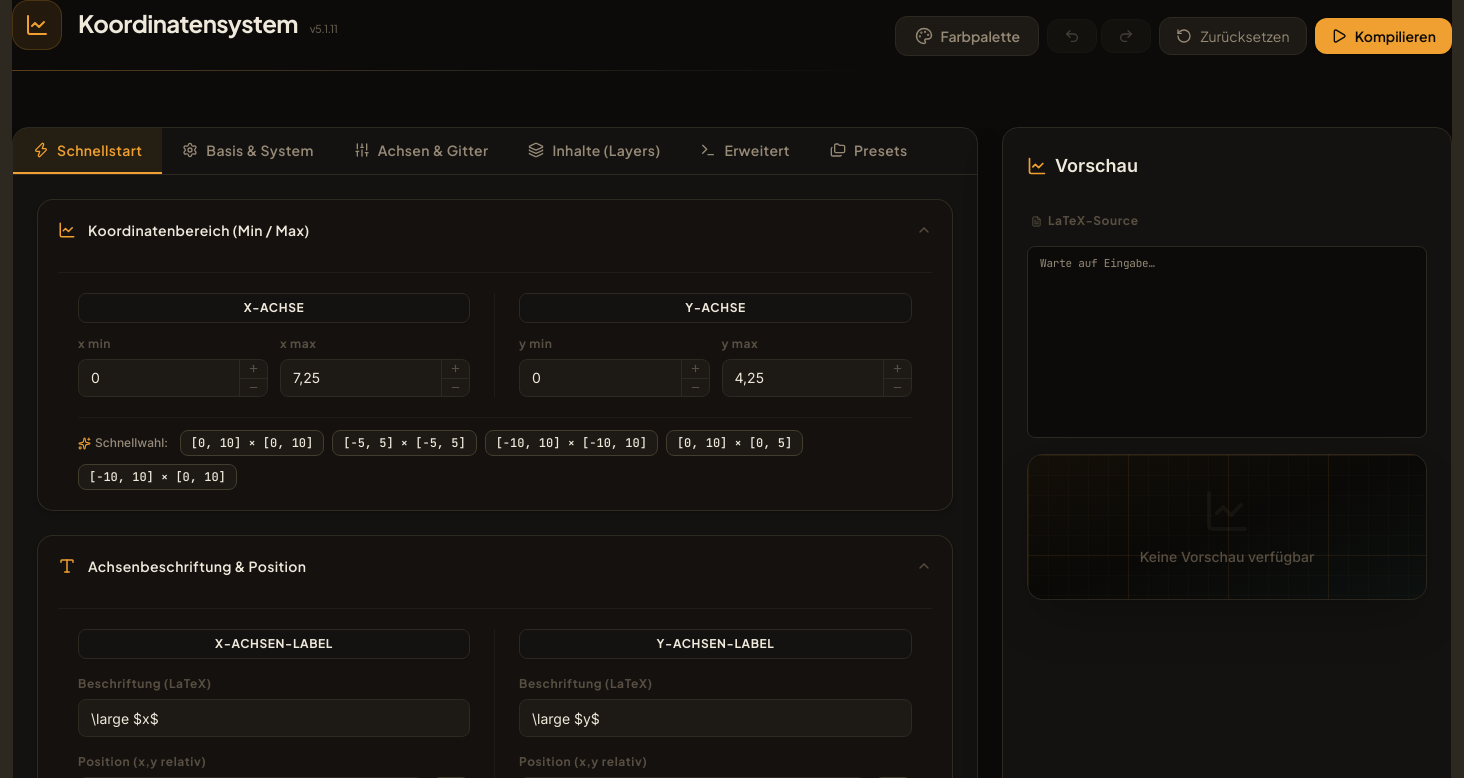
Test: KoordPage Integration Flow (Archetyp Generator-Page) › fängt API-Generierungsfehler (HTTP 422 / 500) sicher ab, setzt den Ladezustand zurück und zeigt die Fehlermeldung
Click the button "Kompilieren" at (1383, 36), box top-left (1314, 18), bottom-right (1452, 54)
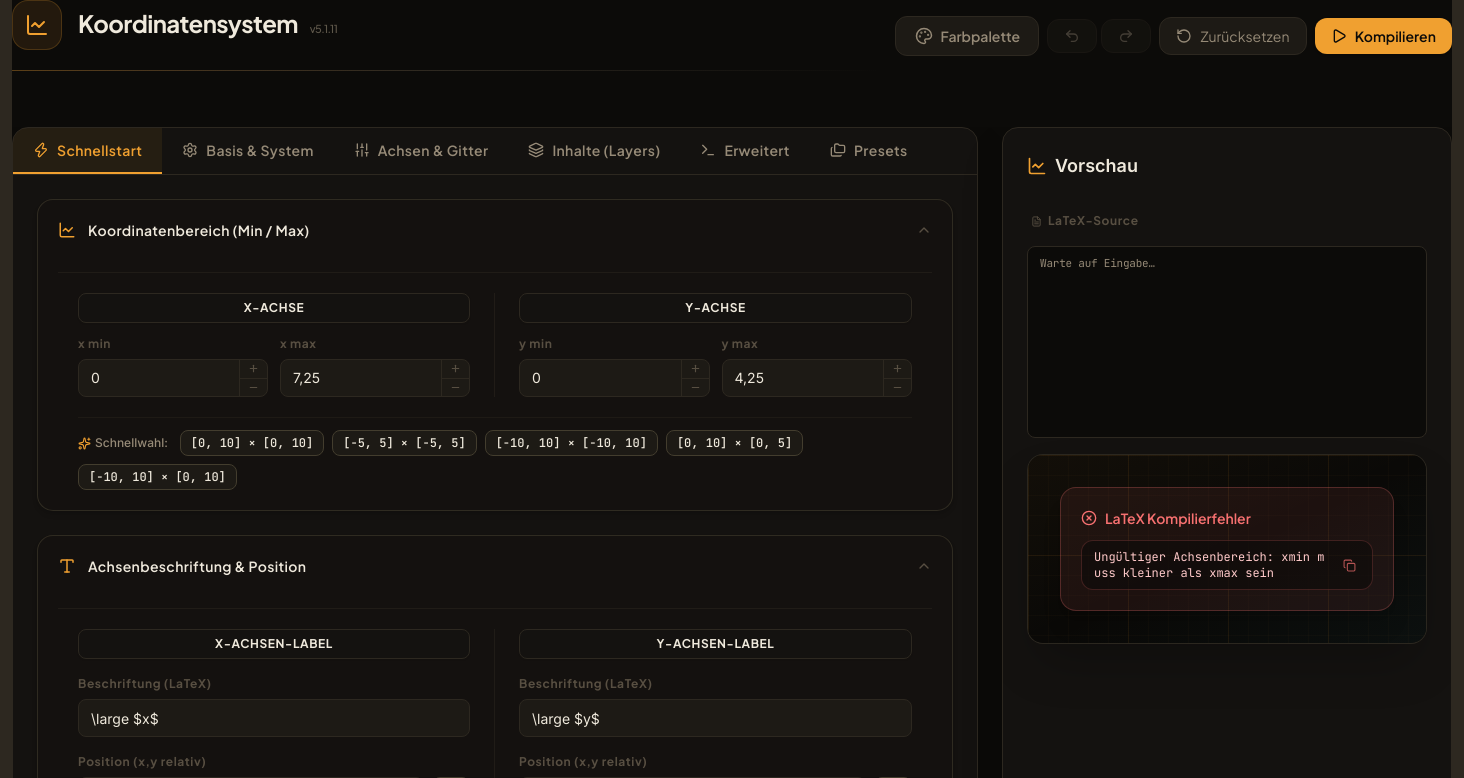
Expected: the element with test id "error-panel" is shown, top-left (1060, 487), bottom-right (1394, 611)
Expected: the text "Ungültiger Achsenbereich: xmin muss kleiner als xmax sein" is shown, top-left (1094, 549), bottom-right (1331, 581)
